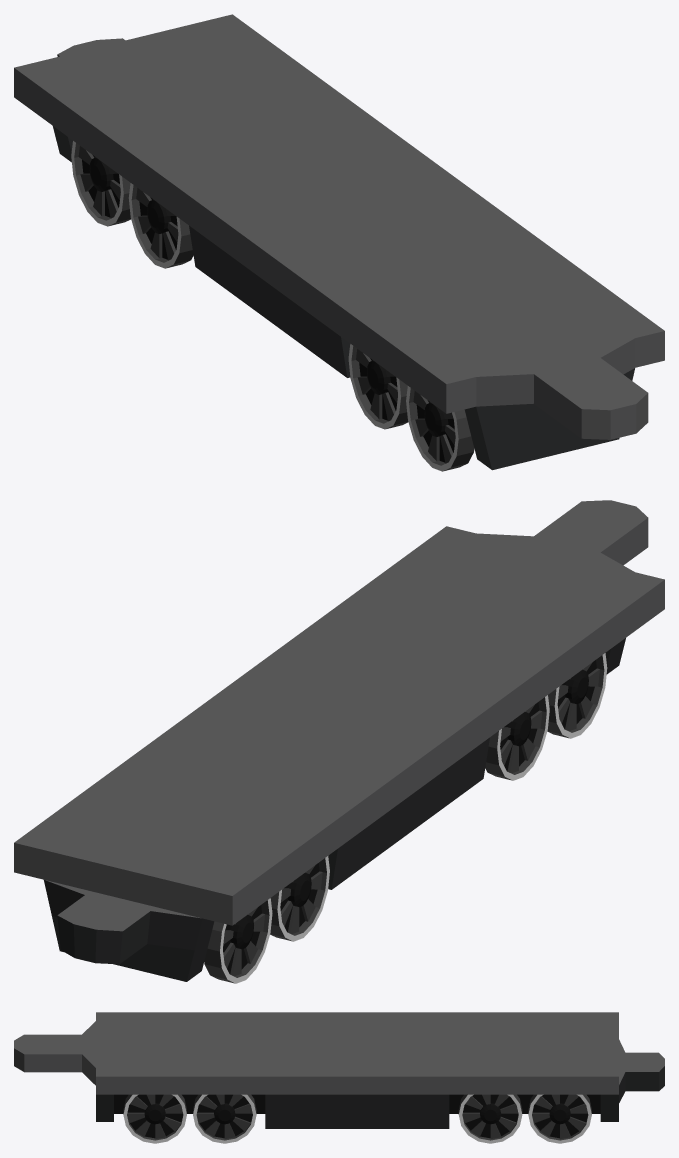
Rendered from CarLostPassenger.fbx.
3 views of the same model, one above another, from view 1: azimuth 30°, elevation 25°; view 2: azimuth 150°, elevation 25°; view 3: azimuth 270°, elevation 25° (orthographic). The views are drawn at different scales.
Parts seen in each view (by area): view 1: Cube.018, Cylinder.046, Cylinder.048, Cylinder.049, Cylinder.047; view 2: Cube.018, Cylinder.049, Cylinder.047, Cylinder.046, Cylinder.048; view 3: Cube.018, Cylinder.048, Cylinder.049, Cylinder.046, Cylinder.047, Cube.024.
Boxes of the visible parts, bbox=[...] form: Cube.018: bbox=[14, 14, 664, 470]; Cylinder.046: bbox=[406, 386, 474, 471]; Cylinder.048: bbox=[128, 183, 193, 268]; Cylinder.049: bbox=[71, 141, 130, 226]; Cylinder.047: bbox=[348, 344, 408, 429]; Cube.018: bbox=[14, 500, 664, 981]; Cylinder.049: bbox=[204, 898, 272, 983]; Cylinder.047: bbox=[485, 695, 549, 780]; Cylinder.046: bbox=[547, 653, 607, 738]; Cylinder.048: bbox=[270, 856, 329, 941]; Cube.018: bbox=[14, 1012, 664, 1128]; Cylinder.048: bbox=[458, 1094, 522, 1143]; Cylinder.049: bbox=[528, 1094, 591, 1143]; Cylinder.046: bbox=[123, 1094, 186, 1143]; Cylinder.047: bbox=[193, 1094, 256, 1143]; Cube.024: bbox=[114, 1094, 600, 1113].
Bounding box in the file's own units: 263 × 147 × 1123.
